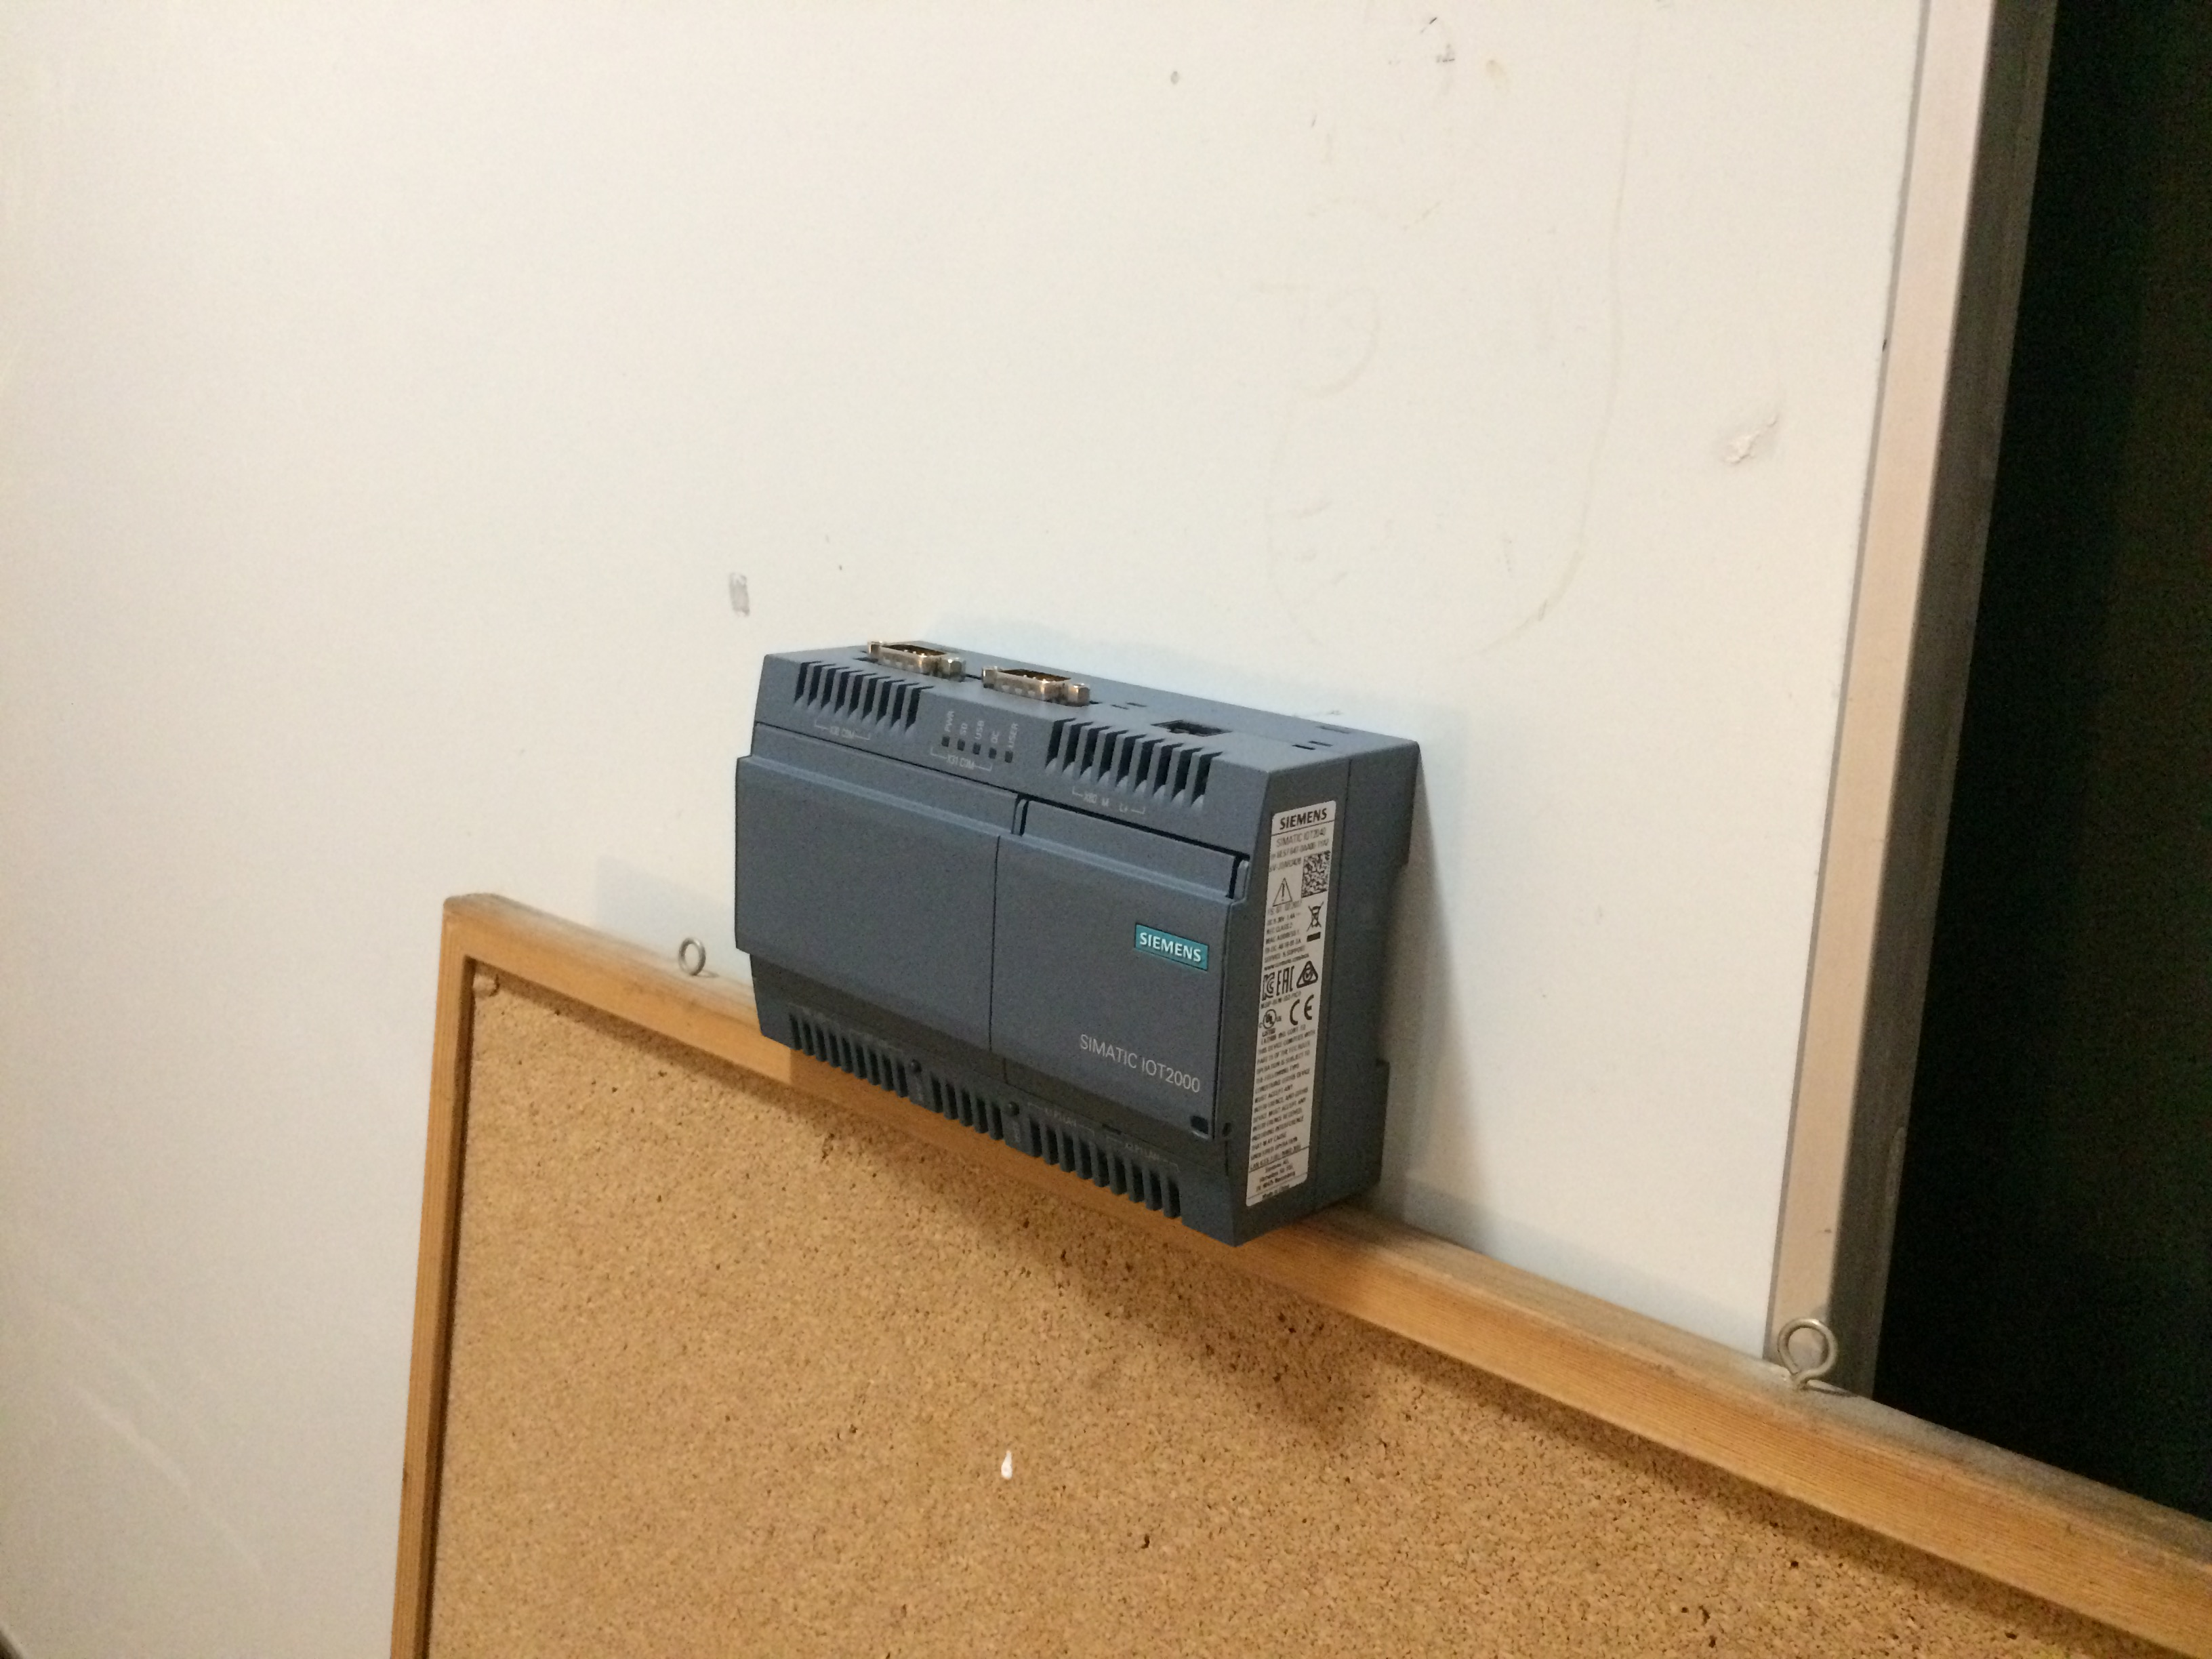iot2000: (730, 633, 1426, 1253)
